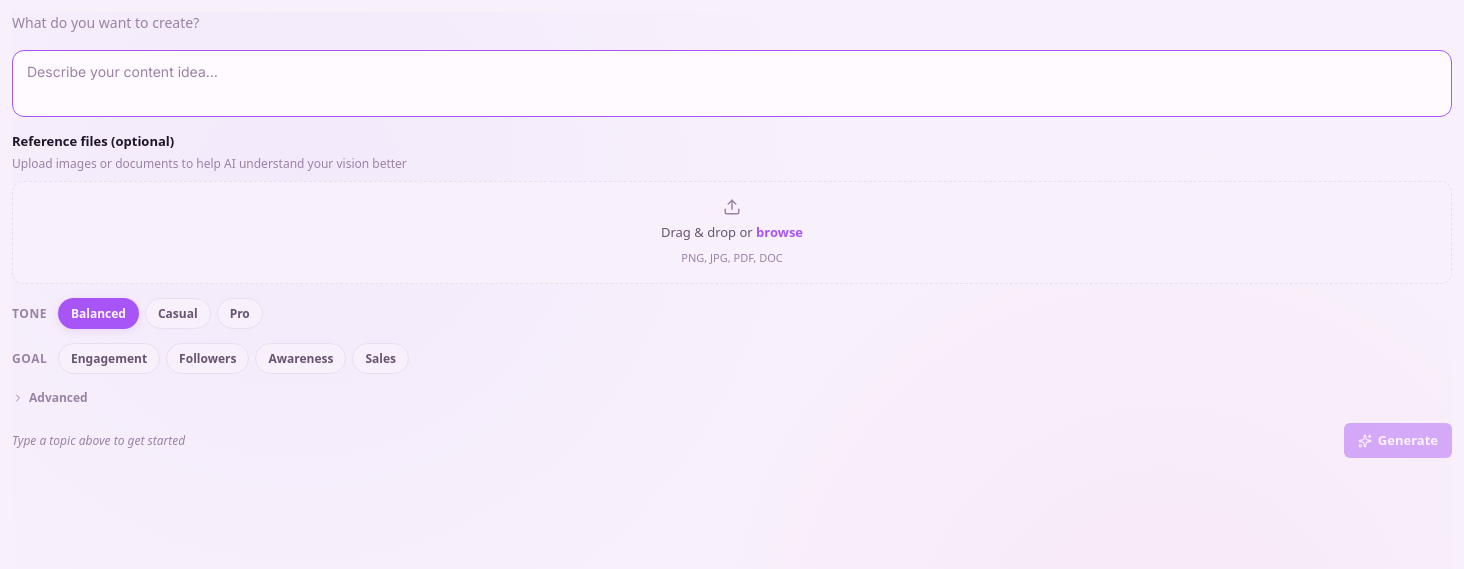
Test: AIIdeaForm › shows advanced fields when toggled
The width and height of the screenshot is (1464, 569).
Click the button "Advanced": (50, 398) [12, 388, 88, 407]
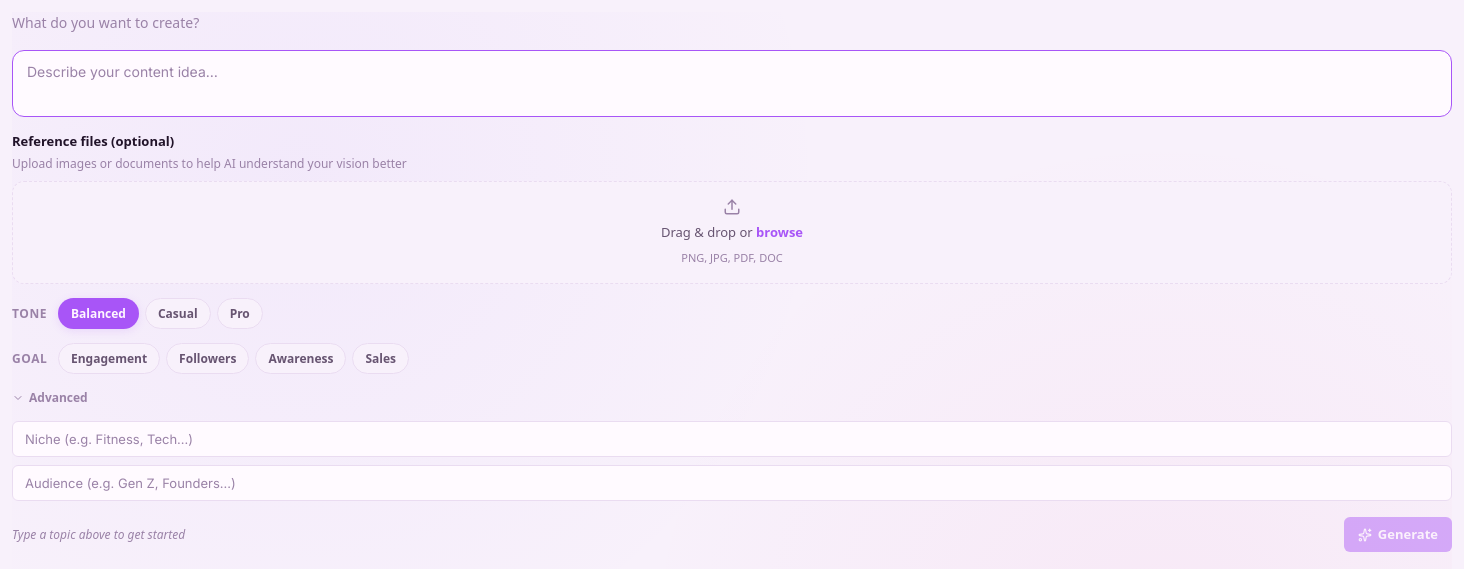
Now the field with placeholder "Niche (e.g. Fitness, Tech…)" is shown, box [12, 421, 1452, 457]
Now the field with placeholder "Audience (e.g. Gen Z, Founders…)" is shown, box [12, 465, 1452, 501]
